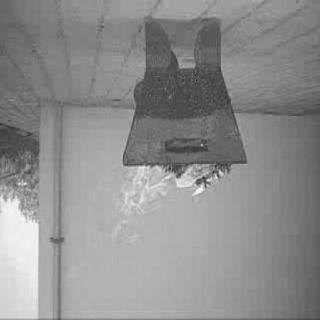Fire: (109, 165, 177, 242)
